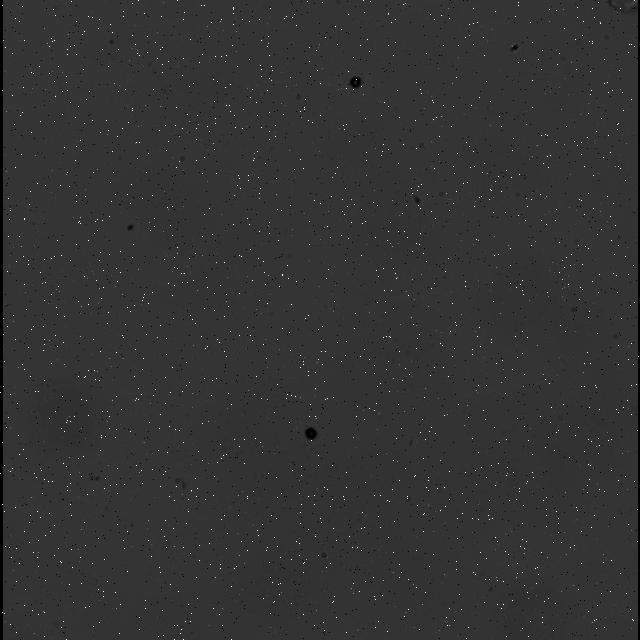microbeads: (302, 427, 318, 443), (346, 76, 364, 90)
